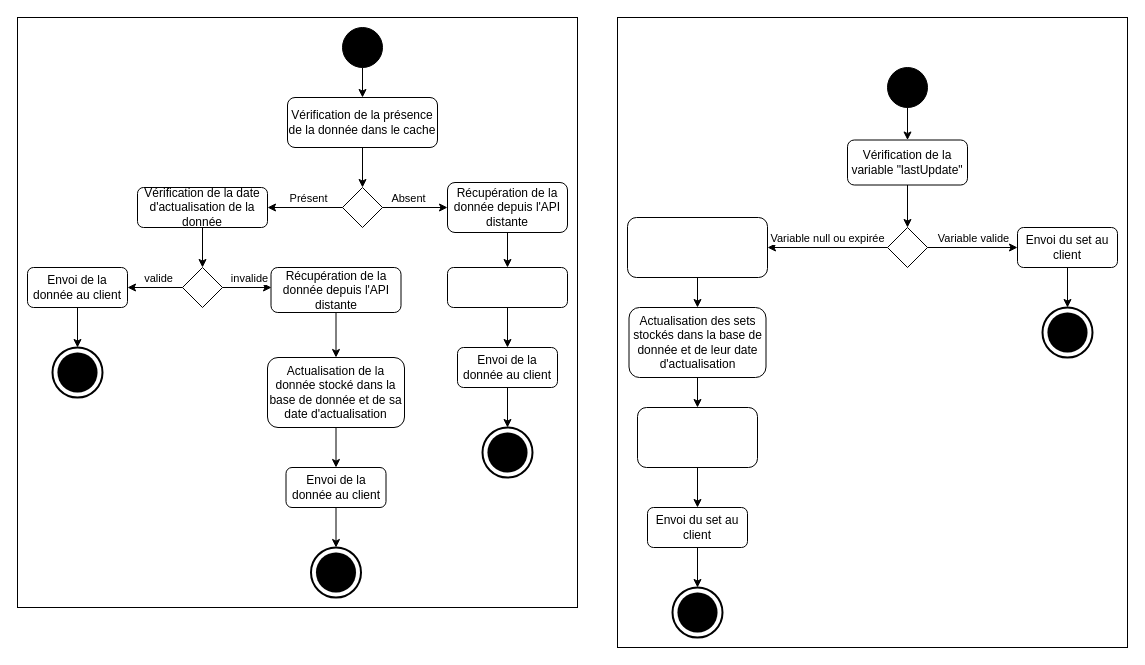
The diagram is 1145 pixels wide and 665 high, and some of its shapes have lost their labels. Each missing label, with the box of its shape:
Actualisation de la variable "lastUpdate": (636, 406, 758, 468)
Ajout de la donnée dans le cache: (446, 266, 568, 308)
Find: (16, 16, 578, 608)
Find All Set (utilisation d'une variable "lastUpdate"): (616, 16, 1128, 648)
Récupération de tout les sets depuis l'API distante (1 seul requête): (626, 216, 768, 278)
